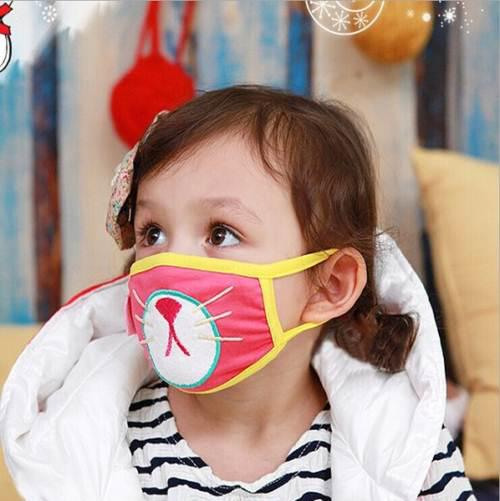OK: (121, 191, 319, 389)
